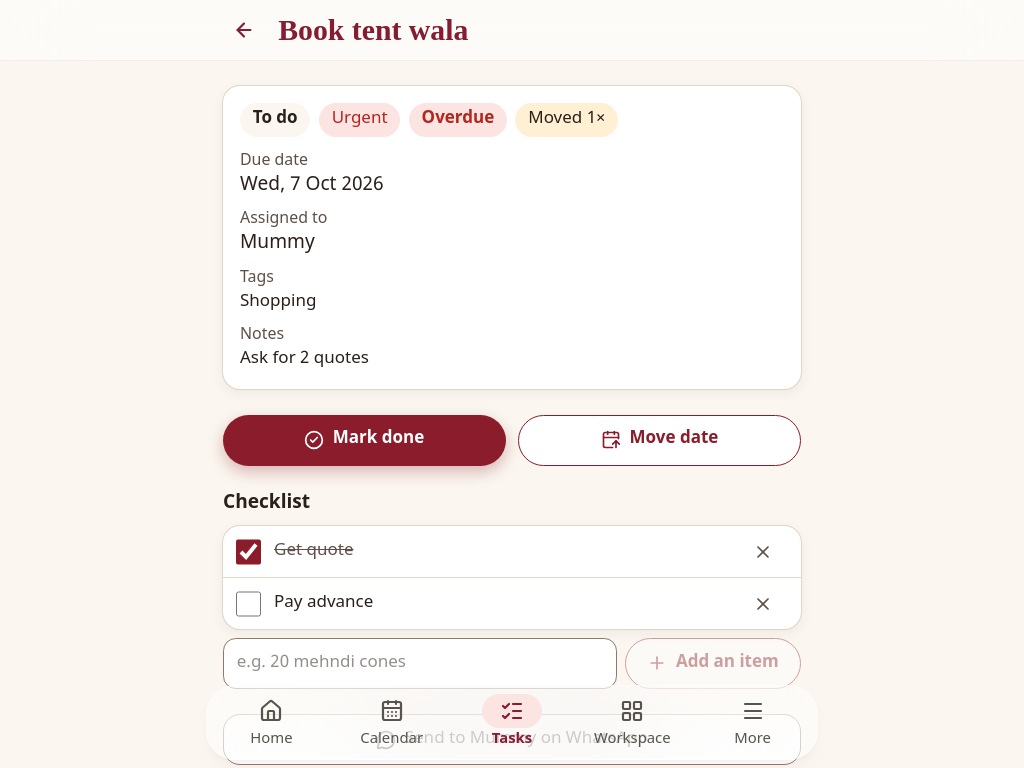
Test: Task detail › Move date → Tomorrow sends the new date; WhatsApp link to the assignee
Click the button "Move date" at (660, 440), box left=518, top=415, right=801, bottom=466
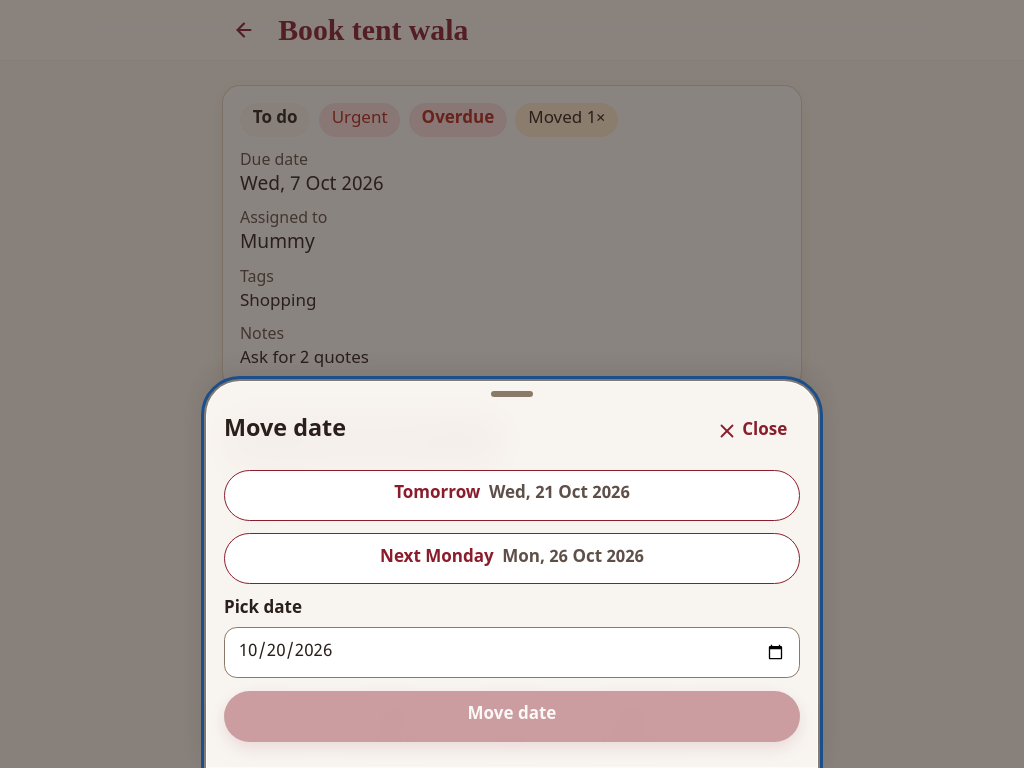
Click the button "Tomorrow Wed, 21 Oct 2026" at (512, 495), box left=224, top=470, right=800, bottom=520
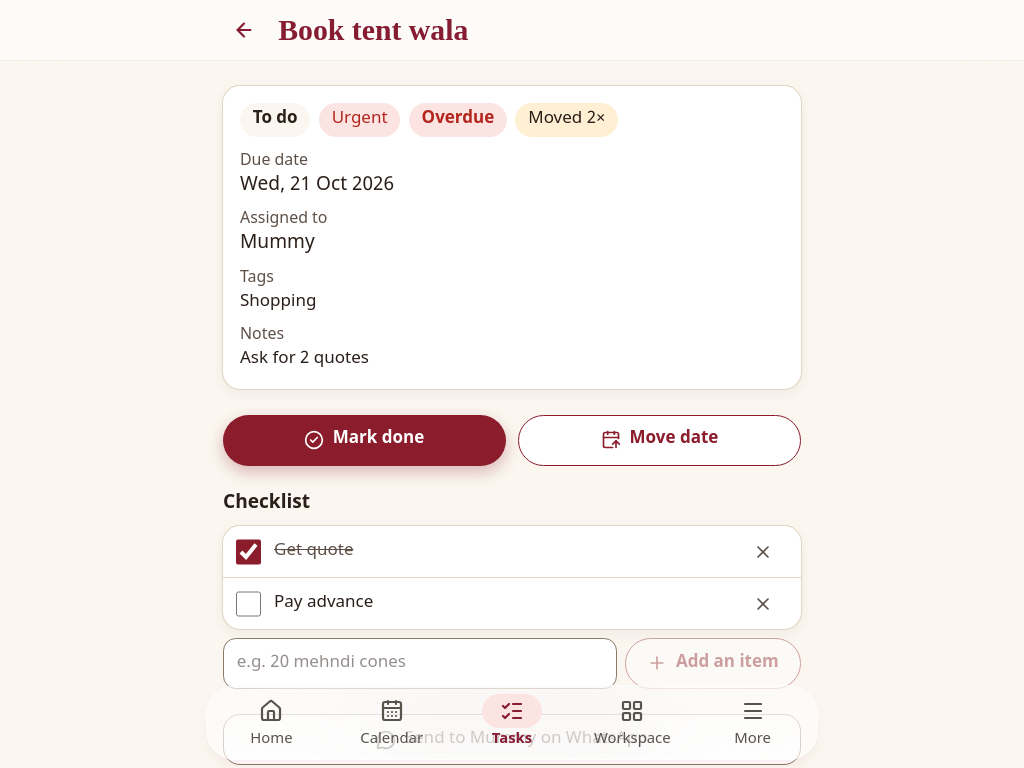
Expected: the text "Moved 2×" is shown, left=516, top=103, right=618, bottom=137
